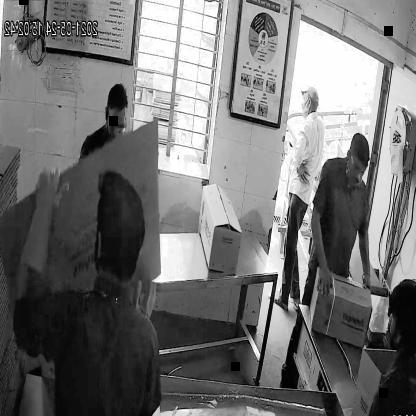goggles: (348, 157, 370, 180)
